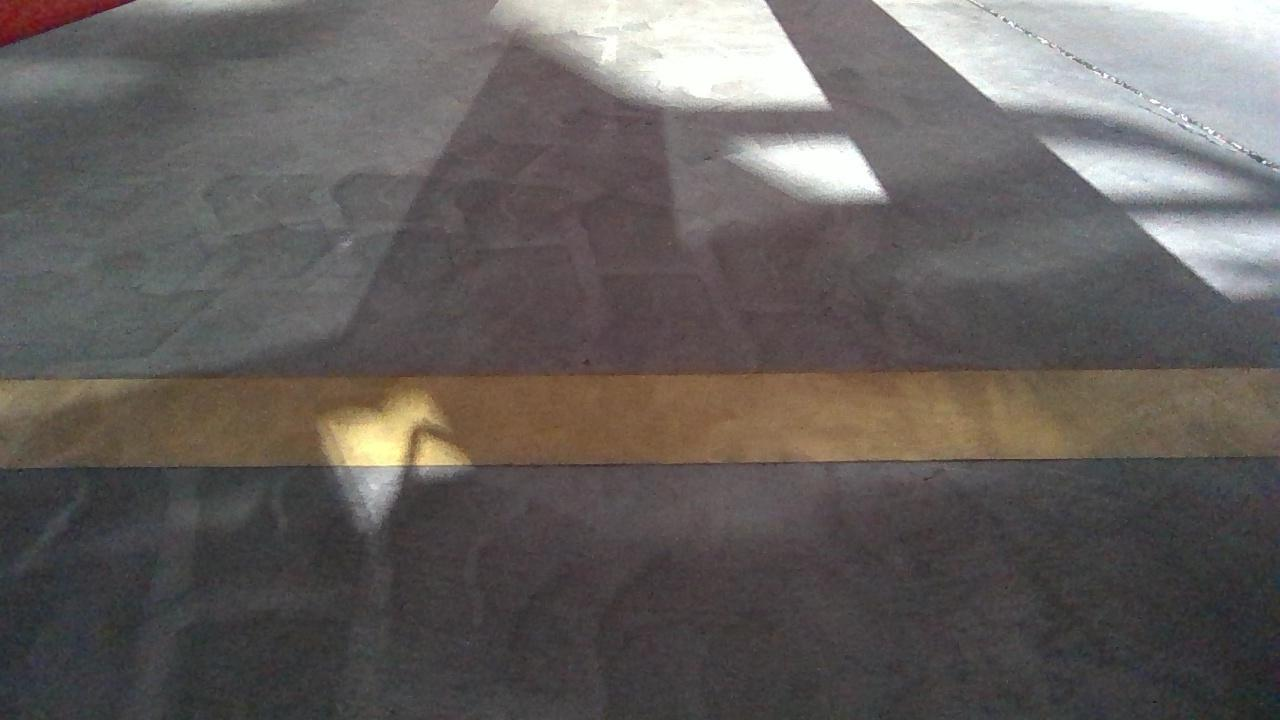yellow_line: (0, 369, 1280, 470)
